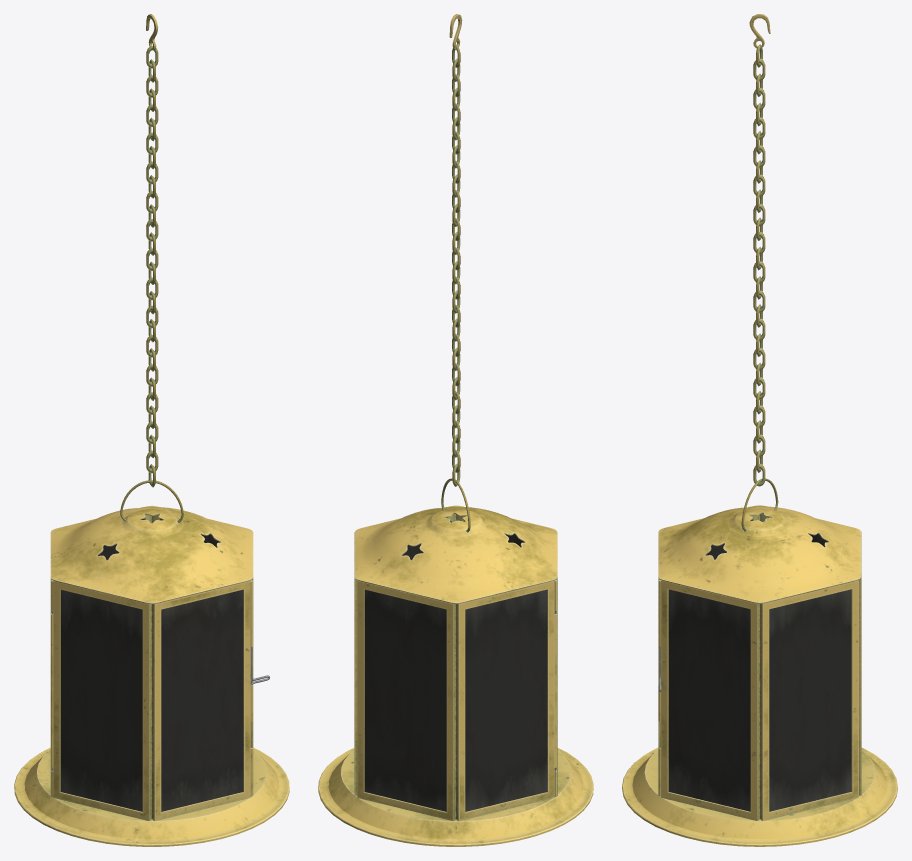
File: brass_diya_lantern.glb
3 views of the same model, side by side, from view 1: azimuth 30°, elevation 25°; view 2: azimuth 150°, elevation 25°; view 3: azimuth 270°, elevation 25° (orthographic).
Parts seen in each view (by area): view 1: brass_diya_lantern, brass_diya_lantern_chain; view 2: brass_diya_lantern, brass_diya_lantern_chain; view 3: brass_diya_lantern, brass_diya_lantern_chain.
Part boxes in pixels (bbox=[...]): brass_diya_lantern: bbox=[14, 505, 289, 846]; brass_diya_lantern_chain: bbox=[146, 14, 158, 487]; brass_diya_lantern: bbox=[318, 505, 593, 846]; brass_diya_lantern_chain: bbox=[449, 14, 462, 486]; brass_diya_lantern: bbox=[622, 505, 897, 846]; brass_diya_lantern_chain: bbox=[749, 14, 770, 486].
Size of the model in its own units: 0.123 by 0.3808 by 0.123.
3 materials, 3 textured.
